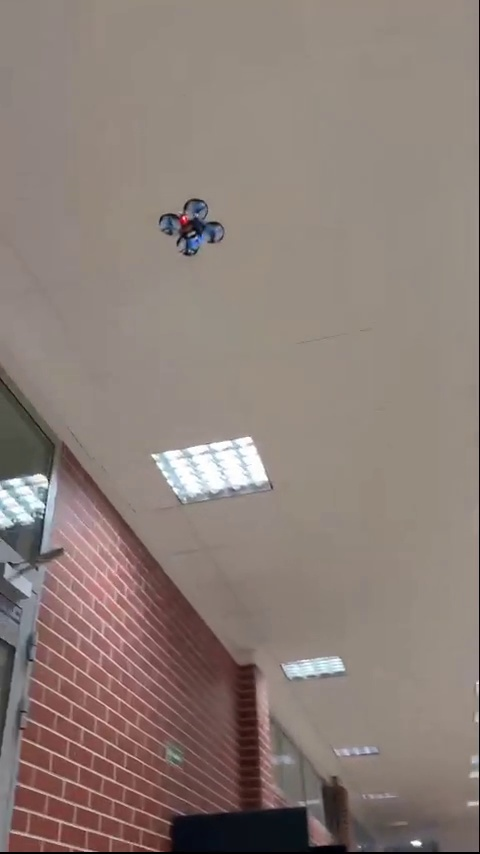drone: (158, 198, 227, 258)
